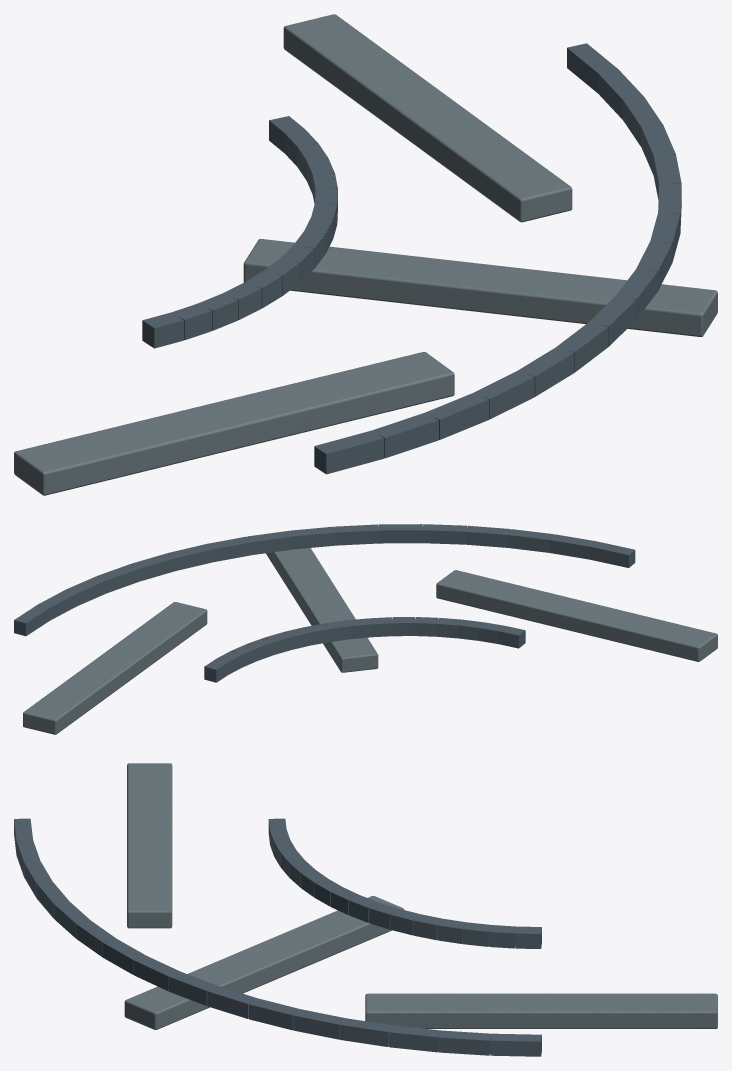
Rendered from dwarven-runeforge-dungeon-dwarven-runeforge-dungeon-tr-13320c77__28605.glb.
3 renders of one model, top to bottom at view 1: azimuth 30°, elevation 25°; view 2: azimuth 150°, elevation 25°; view 3: azimuth 270°, elevation 25°, orthographic. The views are drawn at different scales.
Visible parts, largest first — view 1: dwarven-runeforge-dungeon-track-bend; view 2: dwarven-runeforge-dungeon-track-bend; view 3: dwarven-runeforge-dungeon-track-bend.
Boxes of the visible parts, bbox=[...] form: dwarven-runeforge-dungeon-track-bend: bbox=[14, 14, 717, 495]; dwarven-runeforge-dungeon-track-bend: bbox=[14, 524, 717, 734]; dwarven-runeforge-dungeon-track-bend: bbox=[14, 763, 717, 1056].
Bounding box in the file's own units: 3.59 × 0.2025 × 3.59.
2 materials, 1 textured.
